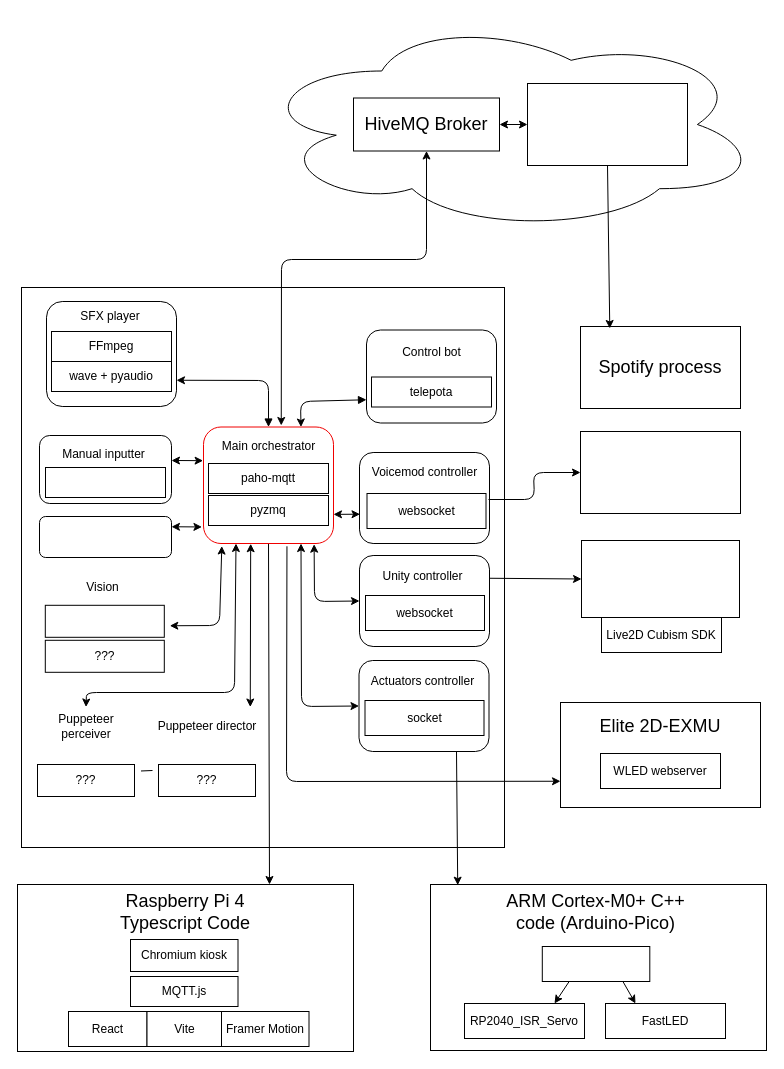
The diagram is 784 pixels wide and 1069 high, and some of its shapes have lost their labels. The centre of each missing label's shape, as x and y in pixels:
HardwareSerial: pixel 595 964
LEDs controller: pixel 105 537
Next.js serverless Vercel app: pixel 607 124
OpenCV: pixel 104 620
pynput: pixel 105 482
Unity process with C# code: pixel 660 579
Voicemod process: pixel 660 472
